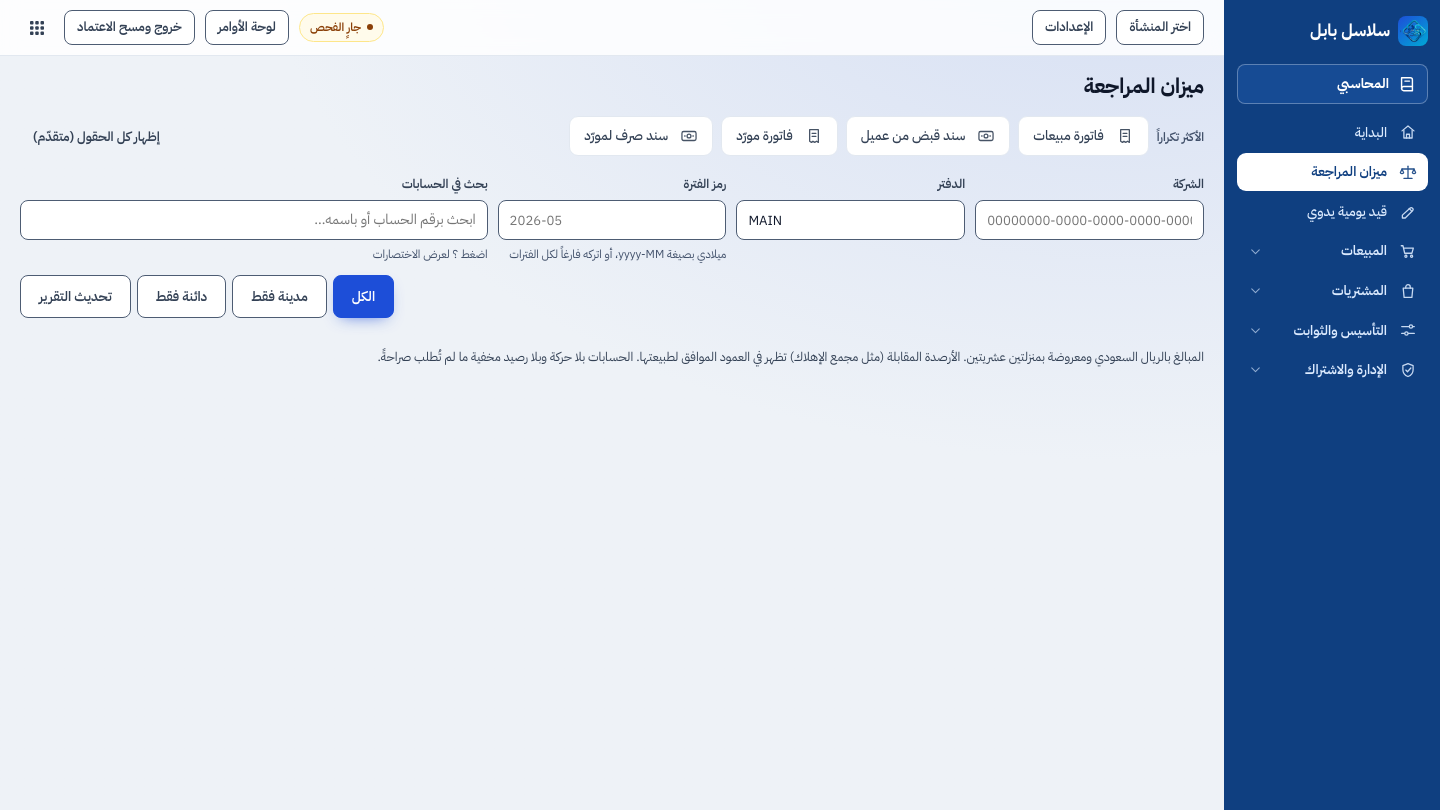
Scenario: مُشغّلُ الأنظمة › واختيارُ نظامٍ يُغلق اللوح — فلا يبقى معلّقاً فوق ما فُتح
The width and height of the screenshot is (1440, 810).
Click the button with test id "open-launcher" at (37, 28), box [20, 10, 54, 44]
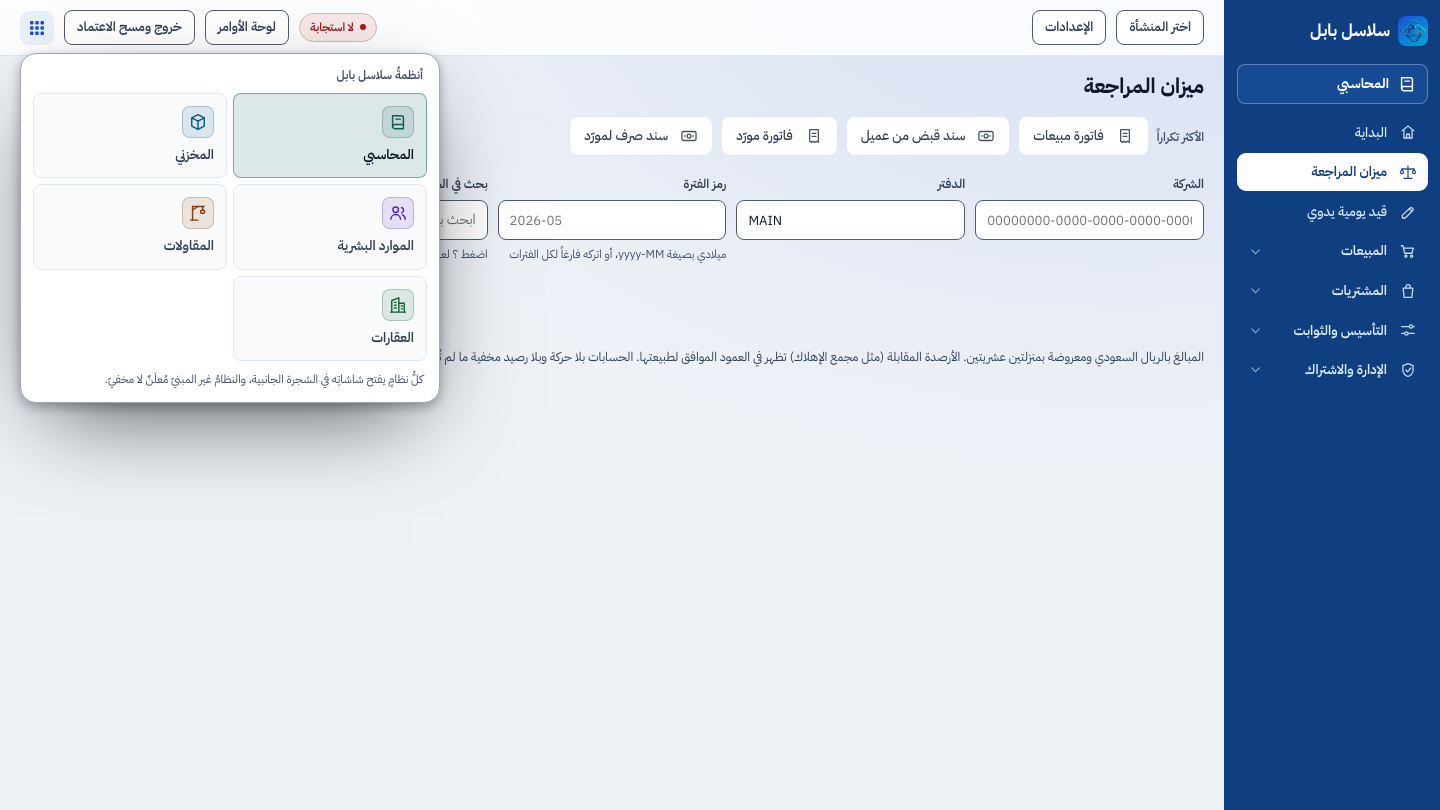
Check: the element with test id "launch-panel" is shown, box [20, 52, 440, 403]
Click the link with test id "section-inventory" at (130, 136), box [33, 93, 227, 178]
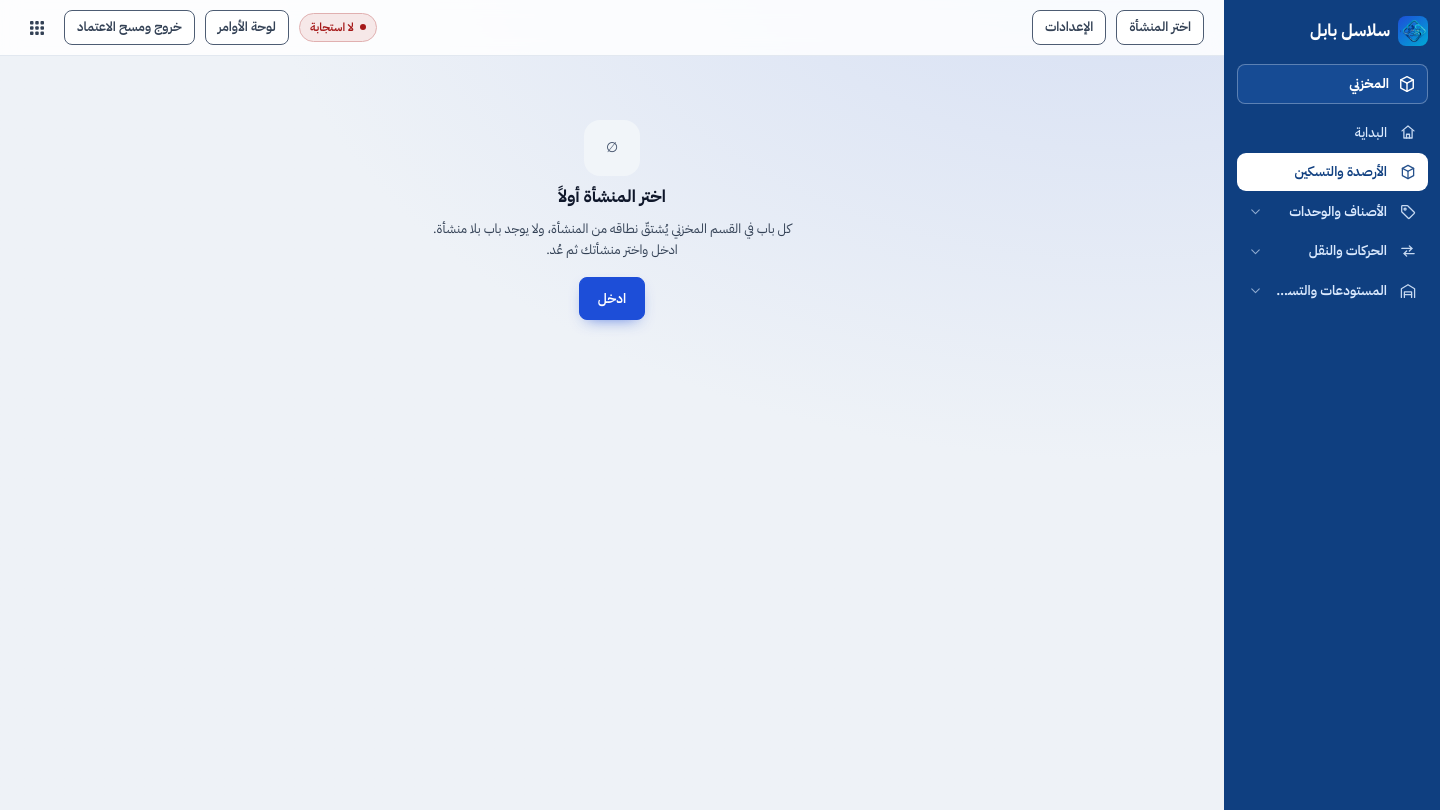
Check: the element with test id "launch-panel" is gone
